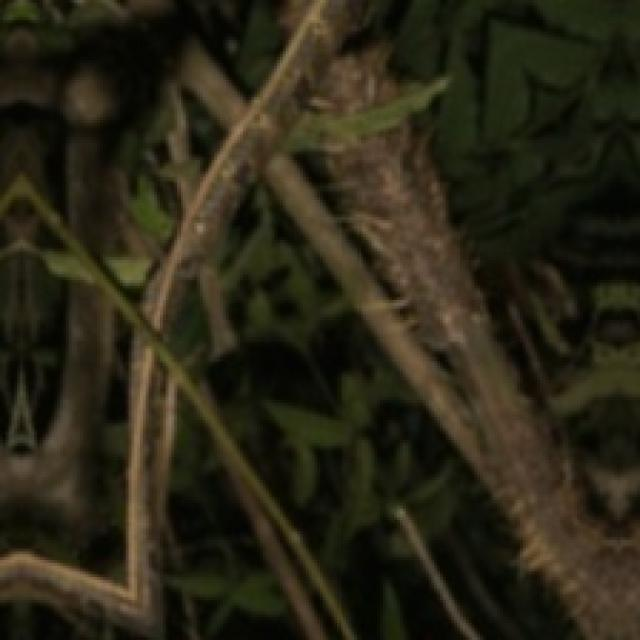dog-toothed cat snake: (144, 0, 344, 333), (0, 331, 178, 637)
